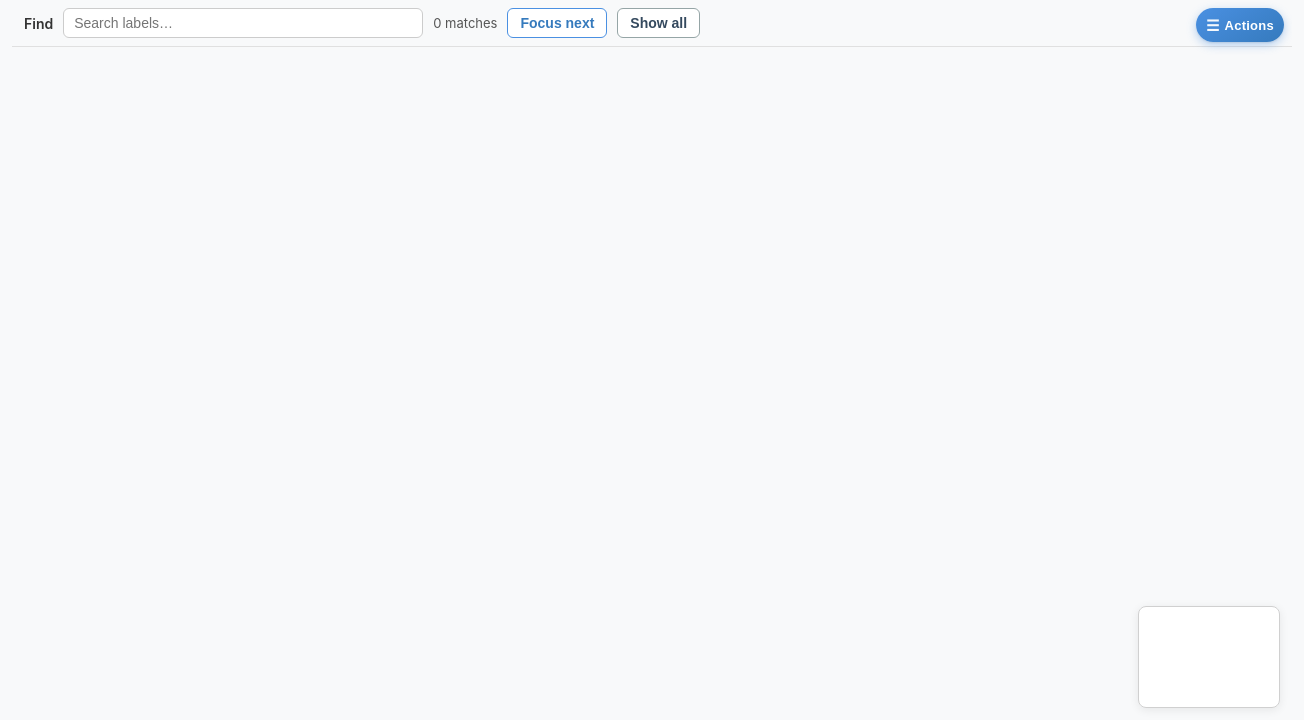
it: GraphVisualization graph action menu › opens the action menu from the floating Actions button
The image size is (1304, 720).
What coordinates should you click on to do the following:
click the button with aria-label "Open graph actions menu"
I would click on:
 (1240, 25)
Its box is [1196, 8, 1284, 42].
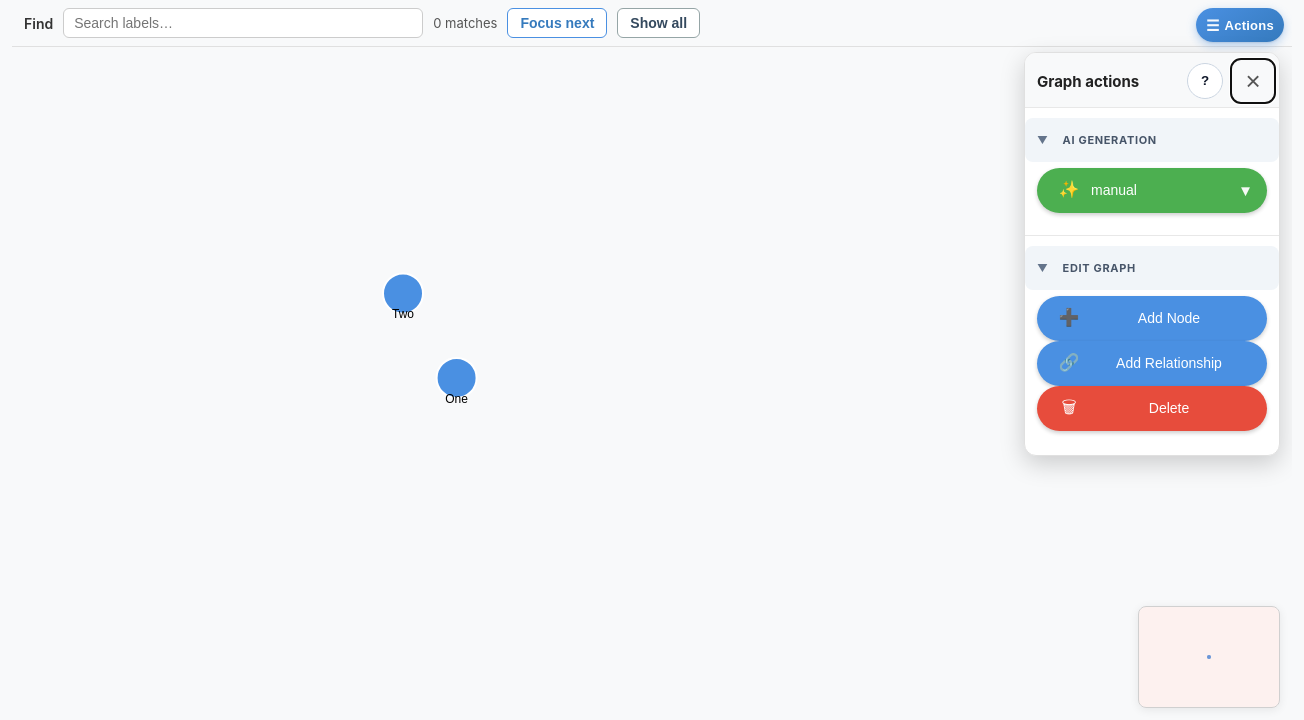
Check: the element "Graph actions" is shown, box [1024, 52, 1280, 456]
Check: the button "▼ AI Generation" is shown, box [1025, 118, 1279, 162]
Check: the button "▼ Edit graph" is shown, box [1025, 246, 1279, 290]
